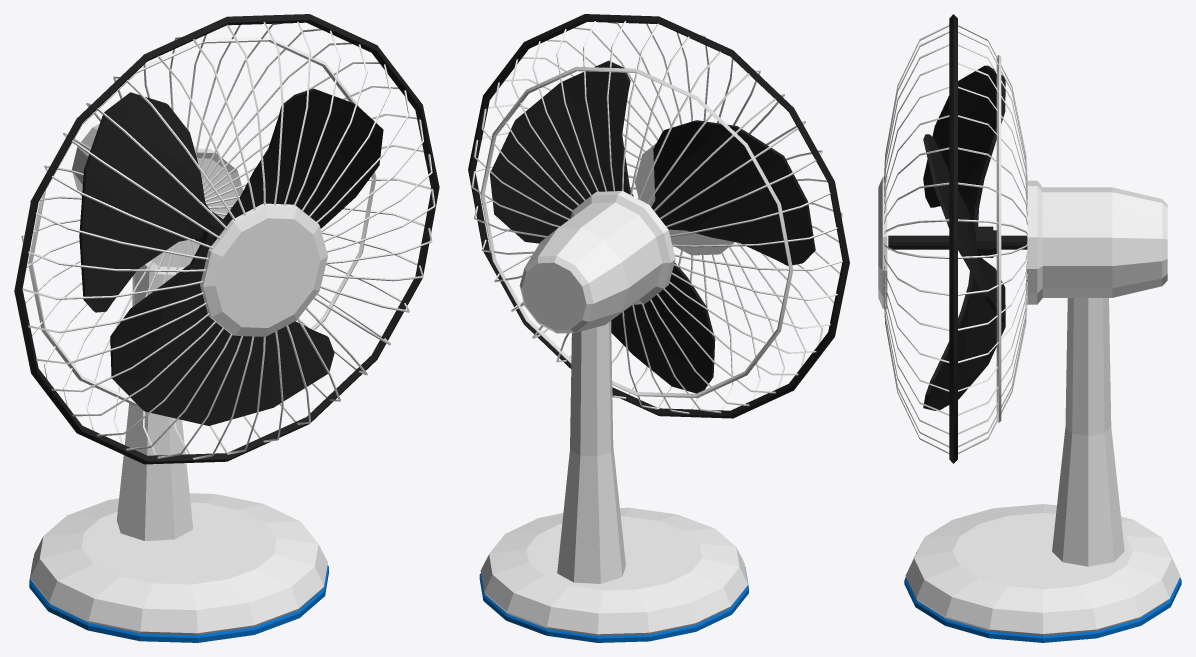
The model's file is Ventillateur.fbx.
3 renders of one model, left to right at view 1: azimuth 30°, elevation 25°; view 2: azimuth 150°, elevation 25°; view 3: azimuth 270°, elevation 25°, orthographic. The views are drawn at different scales.
Parts seen in each view (by area): view 1: Ventillateur; view 2: Ventillateur; view 3: Ventillateur.
Boxes of the visible parts, box(x1,y1,x2,y2) form: Ventillateur: box(14, 14, 439, 642); Ventillateur: box(468, 14, 849, 642); Ventillateur: box(878, 14, 1181, 642).
Size of the model in its own units: 38.66 by 52.02 by 26.04.
